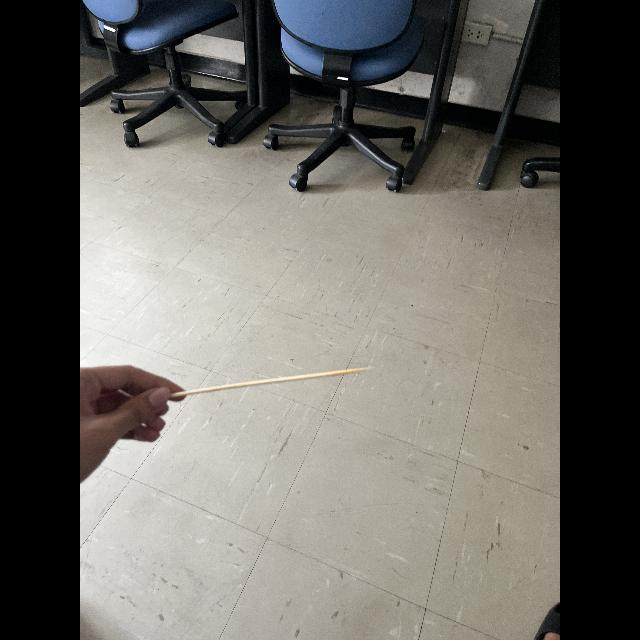stick: (135, 345, 391, 445)
